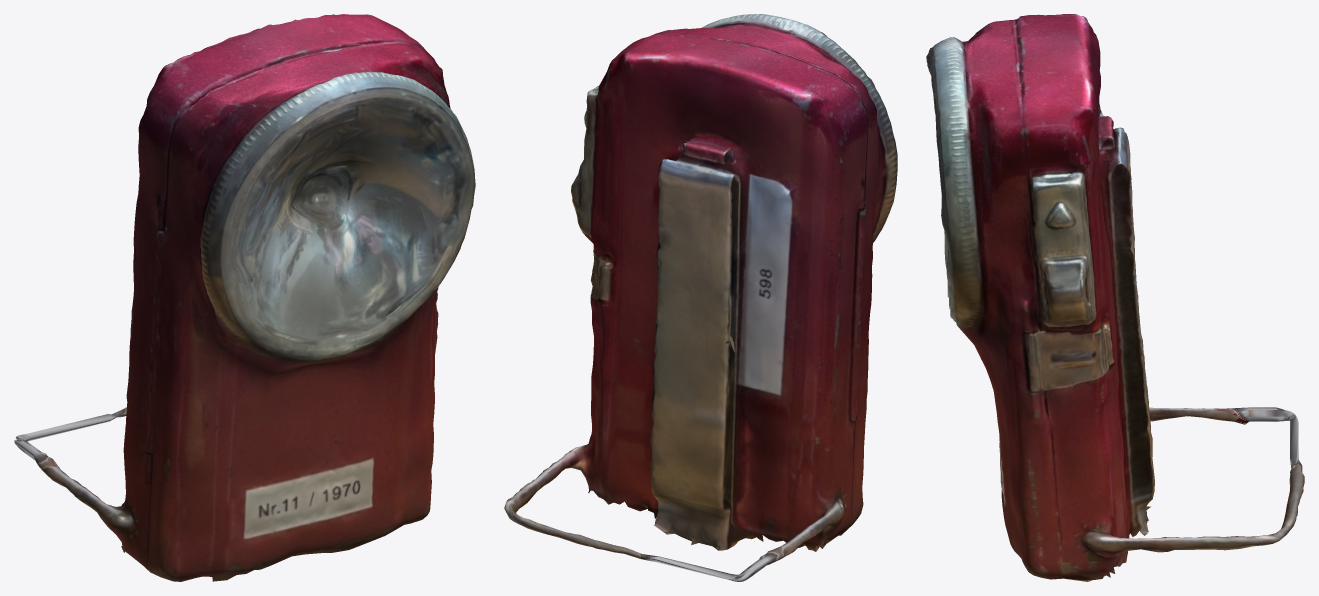
Rendered from lampe_rot_klein_final.glb.
3 renders of one model, left to right at view 1: azimuth 30°, elevation 25°; view 2: azimuth 150°, elevation 25°; view 3: azimuth 270°, elevation 25°, orthographic. The views are drawn at different scales.
Parts seen in each view (by area): view 1: ObjectCapture.001; view 2: ObjectCapture.001; view 3: ObjectCapture.001.
Part boxes in pixels (left/top/right/bottom): ObjectCapture.001: left=14, top=14, right=475, bottom=581; ObjectCapture.001: left=504, top=14, right=897, bottom=581; ObjectCapture.001: left=926, top=14, right=1304, bottom=581.
Bounding box in the file's own units: 0.0777 × 0.1213 × 0.0858.
1 material, 1 textured.
